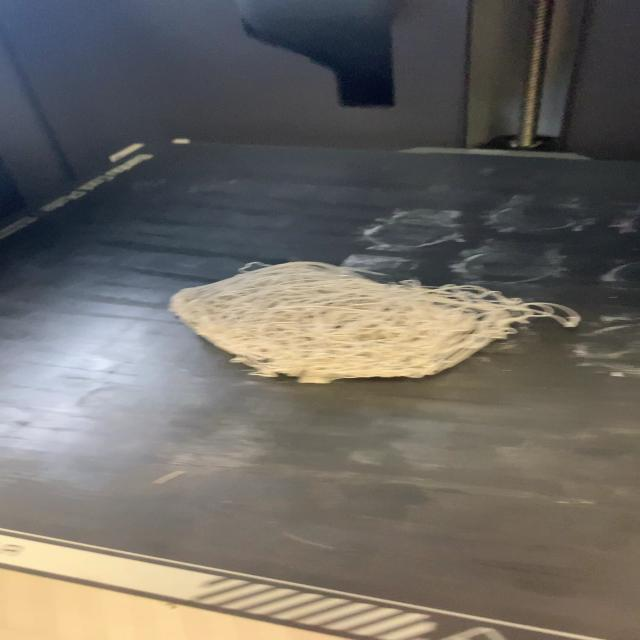spaghetti: (165, 258, 583, 386)
